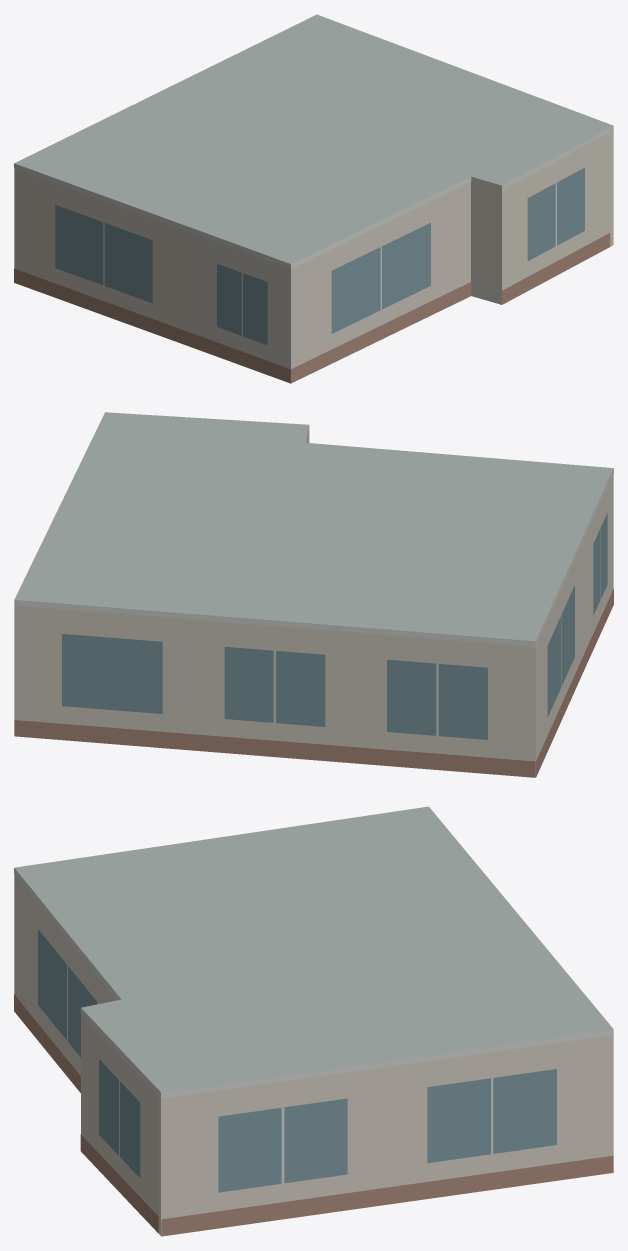
Rendered from survey-upis-32612932.glb.
The picture shows the model from 3 angles, top to bottom: view 1: azimuth 30°, elevation 25°; view 2: azimuth 150°, elevation 25°; view 3: azimuth 270°, elevation 25°; orthographic projection. The views are drawn at different scales.
Visible parts, largest first — view 1: survey-upis-32612932.tmp; view 2: survey-upis-32612932.tmp; view 3: survey-upis-32612932.tmp.
Part boxes in pixels (box(x1,y1,x2,y2)): survey-upis-32612932.tmp: box(14, 14, 613, 383); survey-upis-32612932.tmp: box(14, 412, 613, 777); survey-upis-32612932.tmp: box(14, 806, 613, 1236).
Size of the model in its own units: 13.06 by 3.05 by 11.55.
